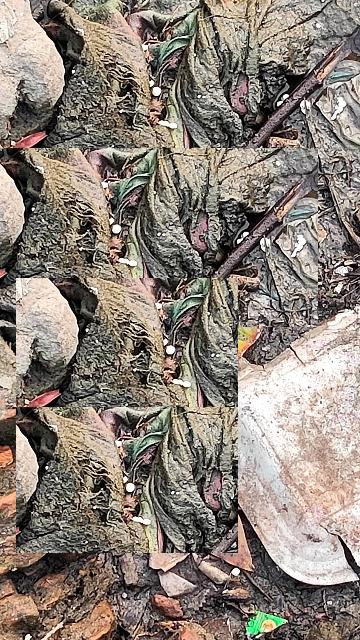cocksheet: (237, 296, 360, 596)
